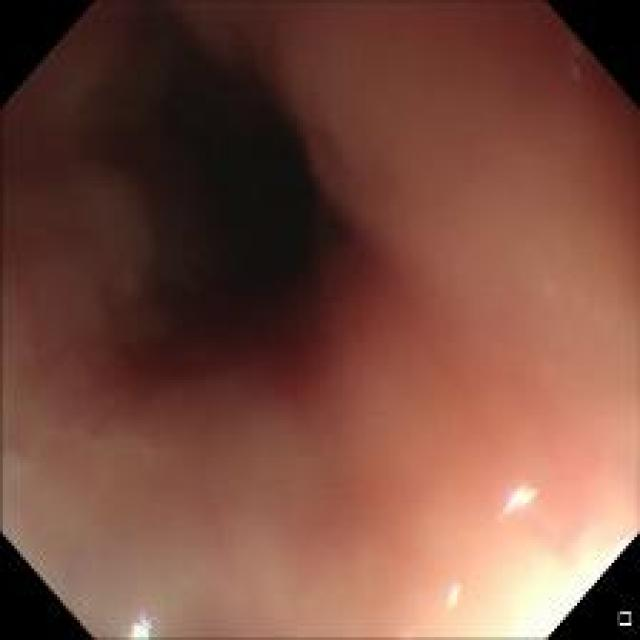blur: (4, 1, 636, 636)
color misalignment: (500, 475, 542, 528), (444, 579, 469, 606)
contrast: (71, 51, 376, 406)
saturation: (509, 542, 614, 625)
specularity: (124, 609, 158, 636)
